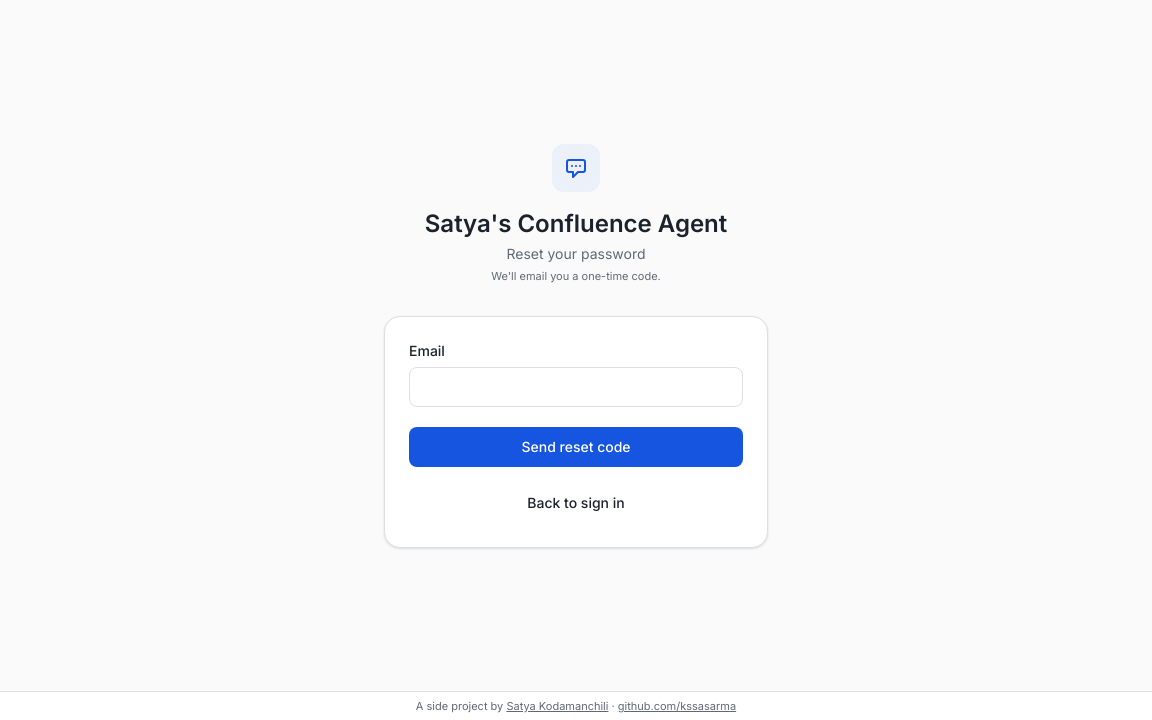
Test: the forgot-password flow › tells the reader to ask an admin when the email cannot be sent
Type "reader@example.com" into the field labelled "Email" at (576,386), box [409, 366, 743, 406]
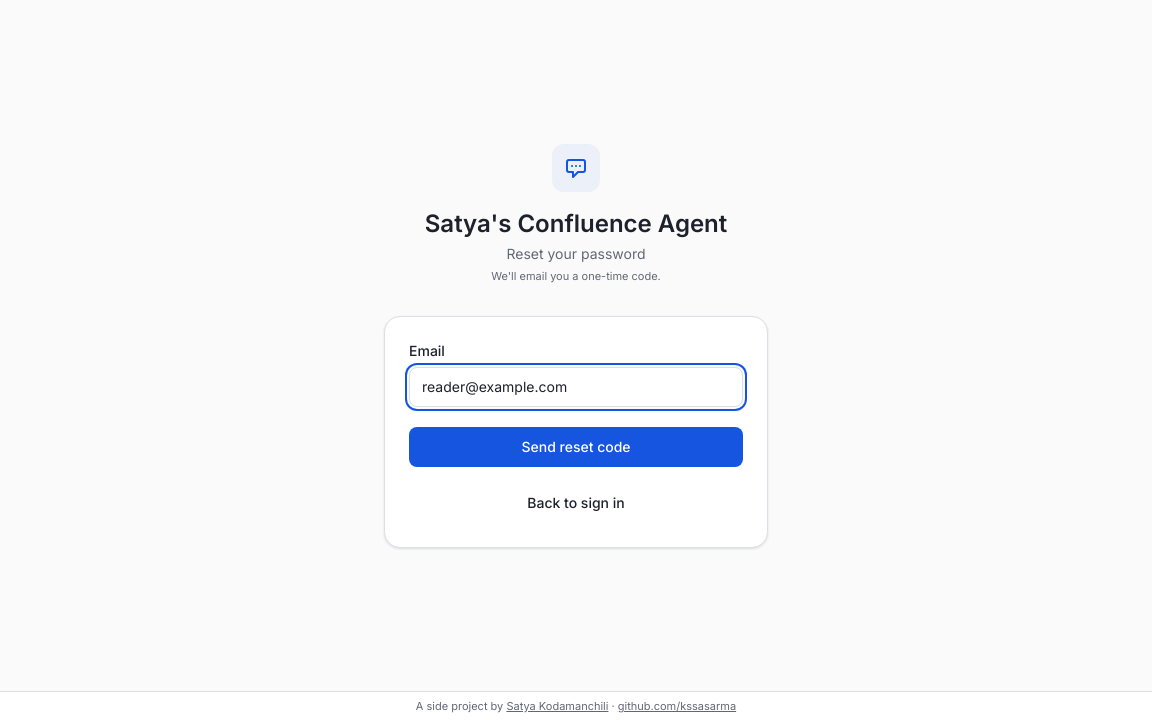
Click the button "Send reset code" at (576,446), box [409, 426, 743, 466]
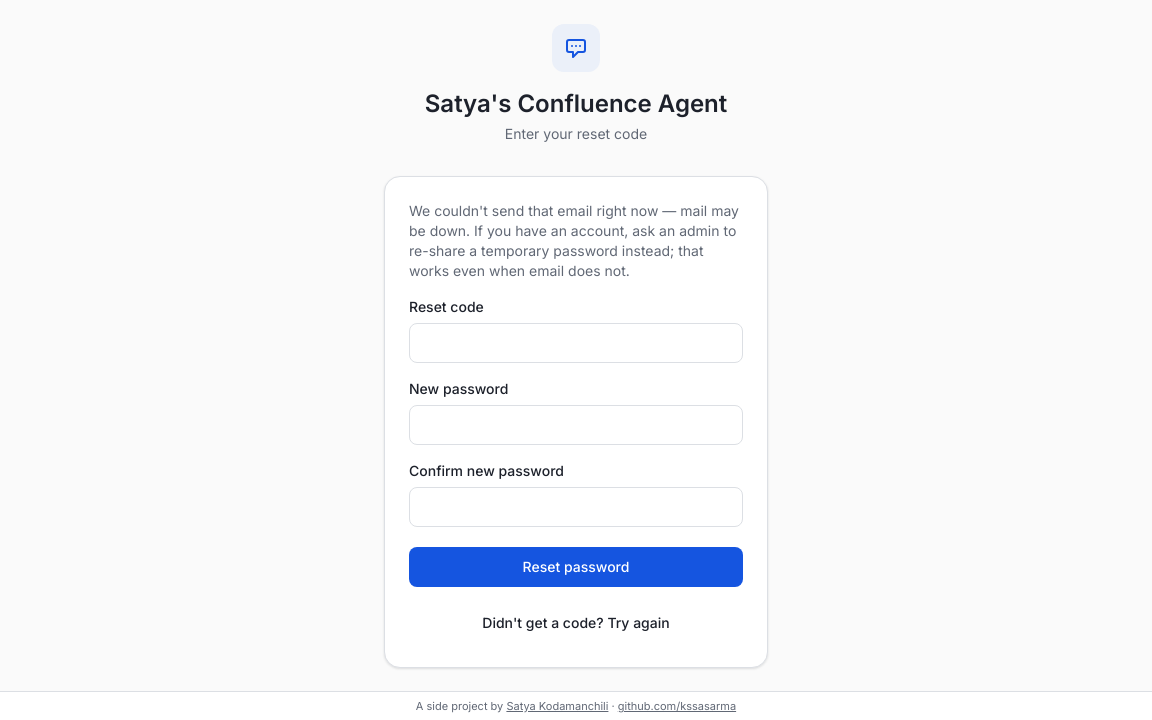
Result: the message shows "ask an admin to re-share" at [409, 202, 739, 278]
